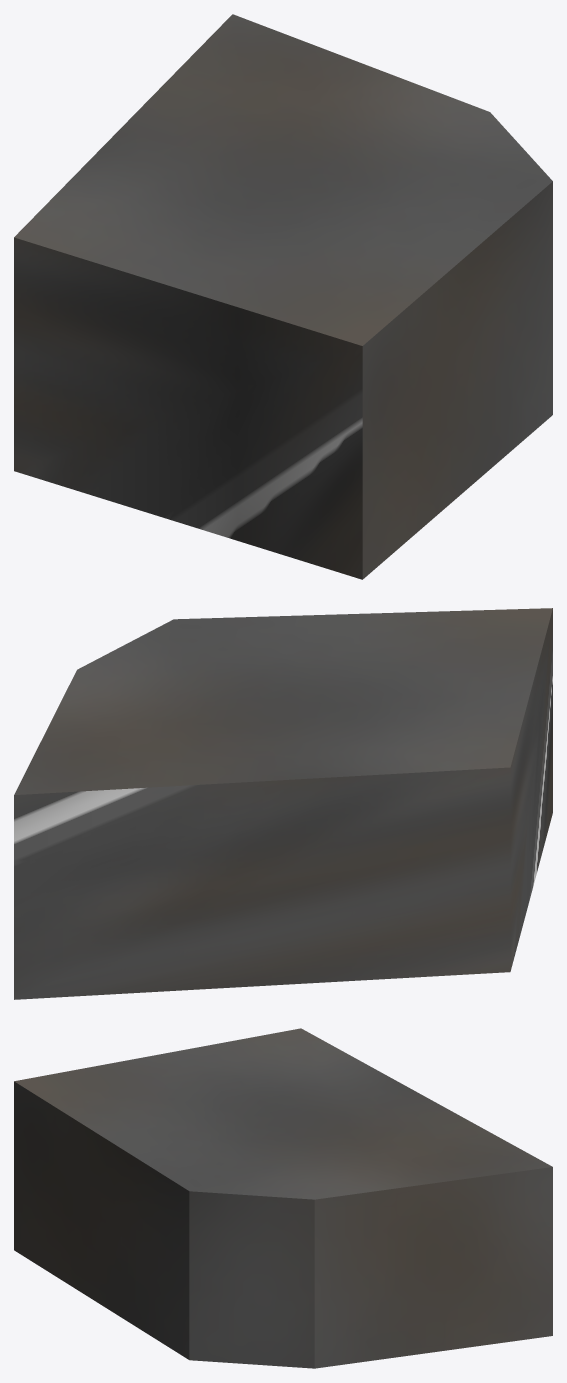
The model's file is ishi_01_5_1.fbx.
The picture shows the model from 3 angles, top to bottom: view 1: azimuth 30°, elevation 25°; view 2: azimuth 150°, elevation 25°; view 3: azimuth 270°, elevation 25°; orthographic projection. The views are drawn at different scales.
Parts seen in each view (by area): view 1: polySurface8; view 2: polySurface8; view 3: polySurface8.
Part boxes in pixels (x1=…): polySurface8: x1=14, y1=14, x2=552, y2=579; polySurface8: x1=14, y1=608, x2=552, y2=999; polySurface8: x1=14, y1=1028, x2=552, y2=1368.
Bounding box in the file's own units: 10.13 × 4.66 × 13.46.
Materials: 1 (1 with a texture image).
